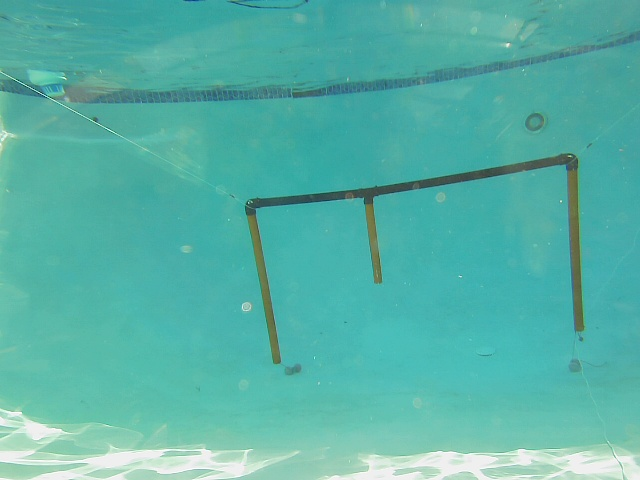Gate: (243, 207, 285, 368), (563, 164, 588, 335), (365, 194, 384, 286)
